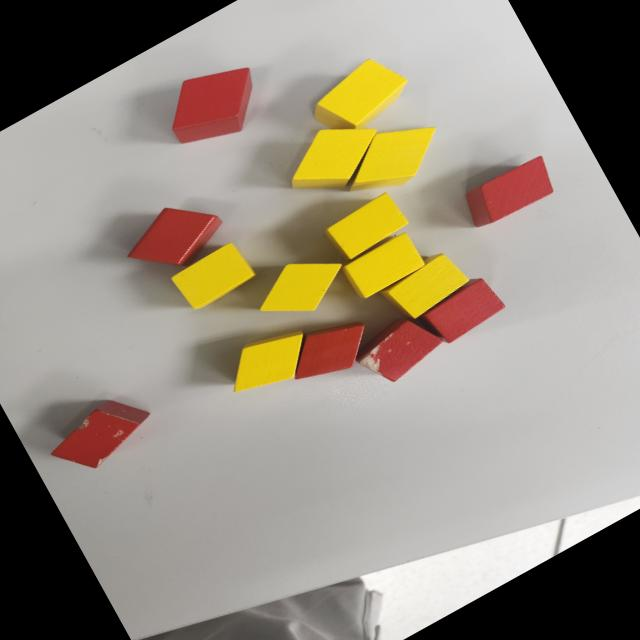broken: (41, 385, 162, 485), (349, 304, 452, 393)
red: (154, 49, 275, 160), (115, 185, 234, 288), (278, 306, 381, 394), (458, 152, 560, 234), (414, 270, 509, 350)
yellow: (274, 104, 396, 212), (330, 104, 454, 209), (302, 46, 419, 148), (244, 238, 356, 334), (217, 316, 321, 406), (380, 248, 472, 326), (169, 238, 258, 314), (324, 190, 410, 262), (340, 230, 426, 301)
